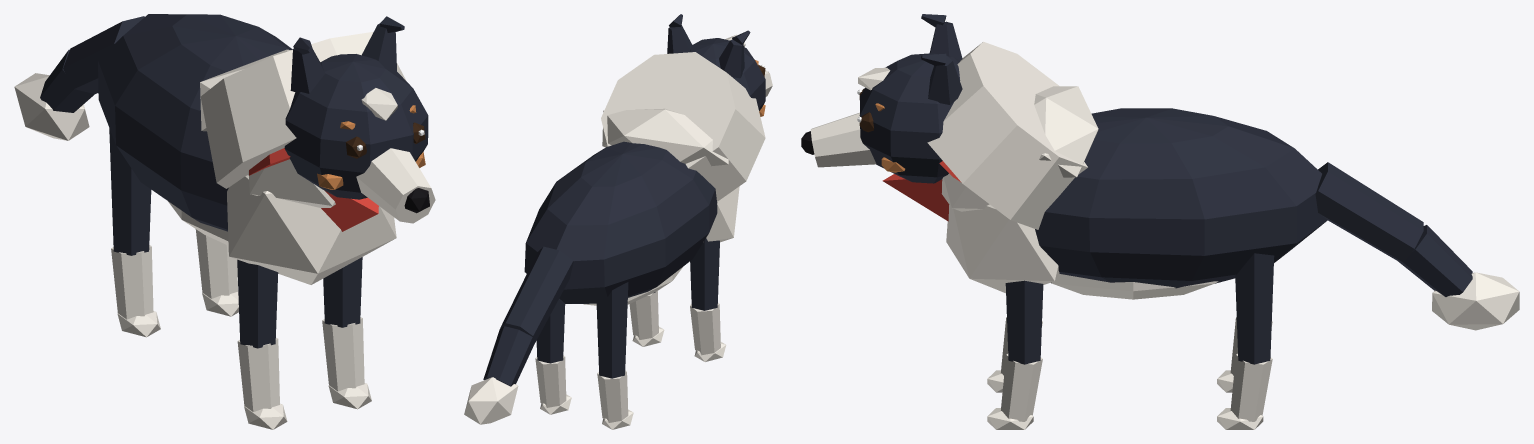
Rendered from collie.glb.
3 renders of one model, left to right at view 1: azimuth 30°, elevation 25°; view 2: azimuth 150°, elevation 25°; view 3: azimuth 270°, elevation 25°, orthographic. The views are drawn at different scales.
Parts seen in each view (by area): view 1: body, head, leg_br, leg_fr, tail, leg_fl, leg_bl, ear_r, ear_l; view 2: body, tail, leg_br, leg_fr, leg_bl, head, leg_fl, ear_r, ear_l; view 3: body, tail, head, leg_bl, leg_fl, ear_l, ear_r.
Part boxes in pixels (x1=…): body: x1=98, y1=14, x2=406, y2=284; head: x1=284, y1=54, x2=435, y2=223; leg_br: x1=109, y1=128, x2=160, y2=337; leg_fr: x1=237, y1=259, x2=287, y2=429; tail: x1=14, y1=16, x2=144, y2=140; leg_fl: x1=322, y1=257, x2=371, y2=409; leg_bl: x1=195, y1=229, x2=238, y2=316; ear_r: x1=290, y1=37, x2=325, y2=93; ear_l: x1=362, y1=16, x2=404, y2=72; body: x1=524, y1=52, x2=765, y2=305; tail: x1=464, y1=246, x2=573, y2=424; leg_br: x1=596, y1=282, x2=633, y2=429; leg_fr: x1=690, y1=238, x2=726, y2=361; leg_bl: x1=535, y1=299, x2=571, y2=414; head: x1=689, y1=34, x2=772, y2=116; leg_fl: x1=629, y1=291, x2=664, y2=346; ear_r: x1=719, y1=30, x2=750, y2=78; ear_l: x1=667, y1=14, x2=692, y2=53; body: x1=882, y1=41, x2=1327, y2=299; tail: x1=1315, y1=162, x2=1519, y2=330; head: x1=801, y1=53, x2=960, y2=183; leg_bl: x1=1217, y1=253, x2=1274, y2=429; leg_fl: x1=987, y1=280, x2=1043, y2=429; ear_l: x1=921, y1=53, x2=962, y2=104; ear_r: x1=921, y1=14, x2=962, y2=60.
Size of the model in its own units: 0.4755 by 1.03 by 1.78.
